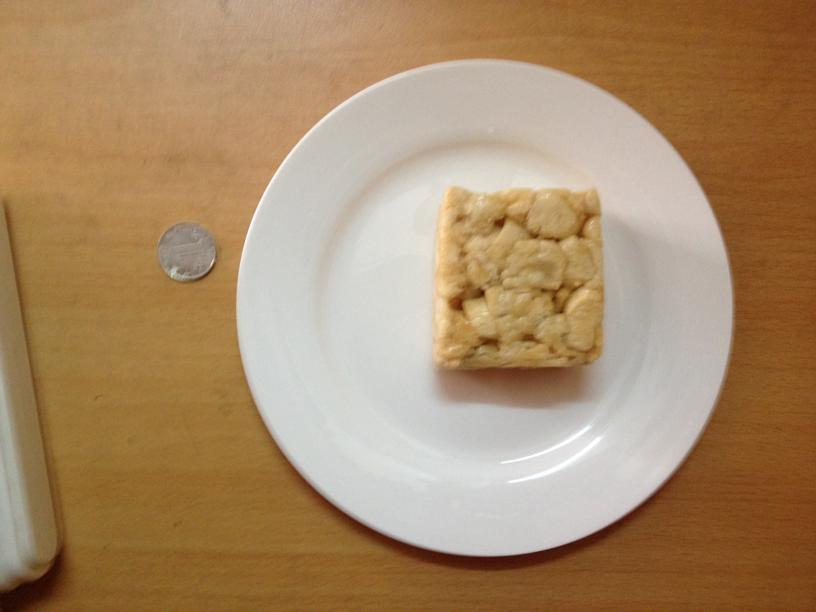coin: (153, 221, 221, 284)
sachima: (427, 183, 606, 373)
